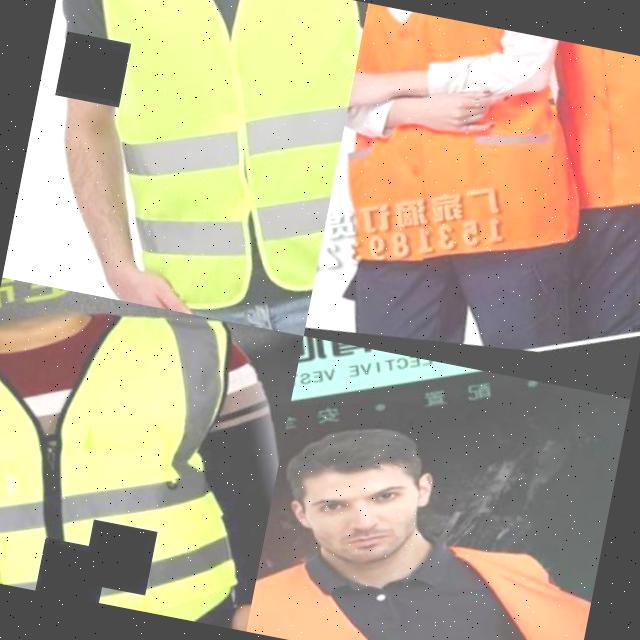vest: (24, 0, 368, 336), (0, 277, 303, 631), (318, 3, 595, 306), (457, 27, 640, 227), (246, 541, 462, 640)
